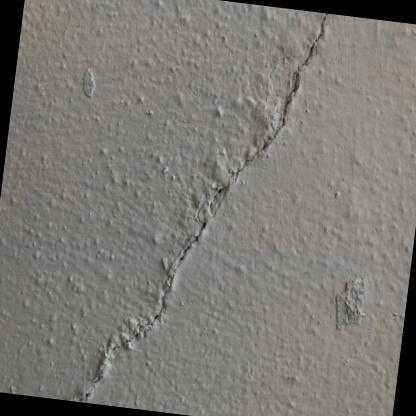crack: (76, 13, 327, 402)
